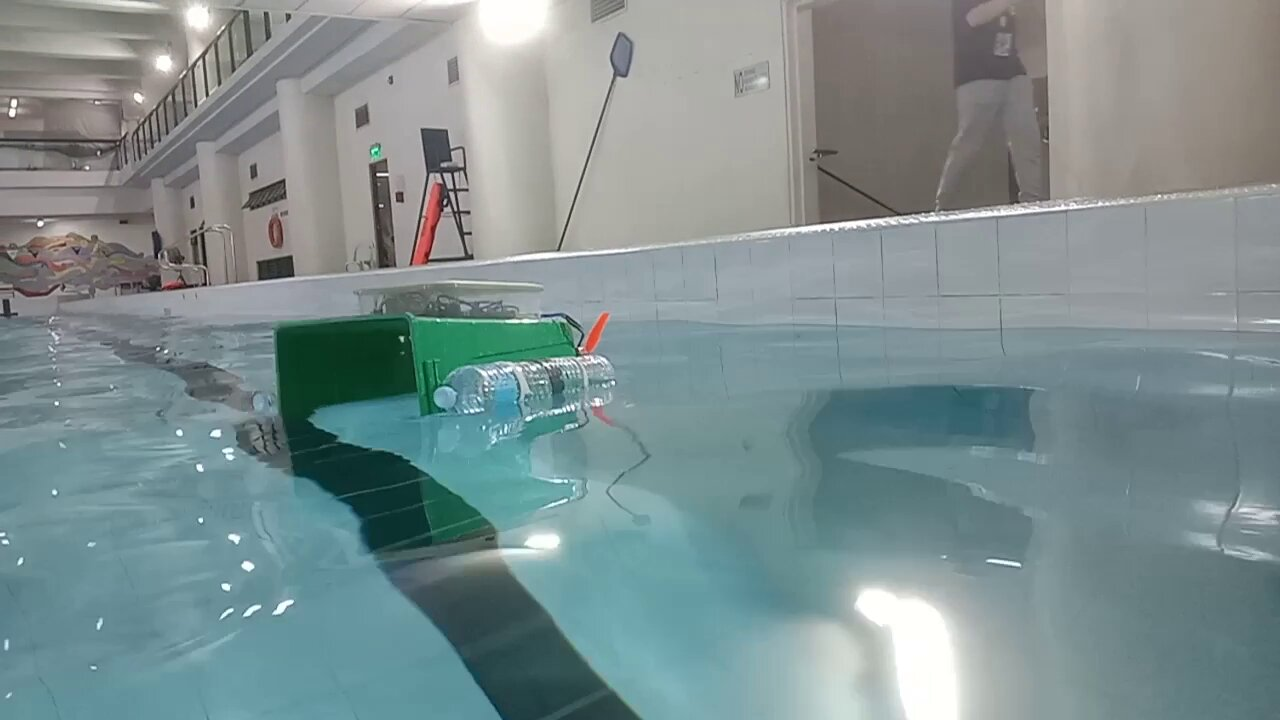drone: (249, 278, 617, 423)
